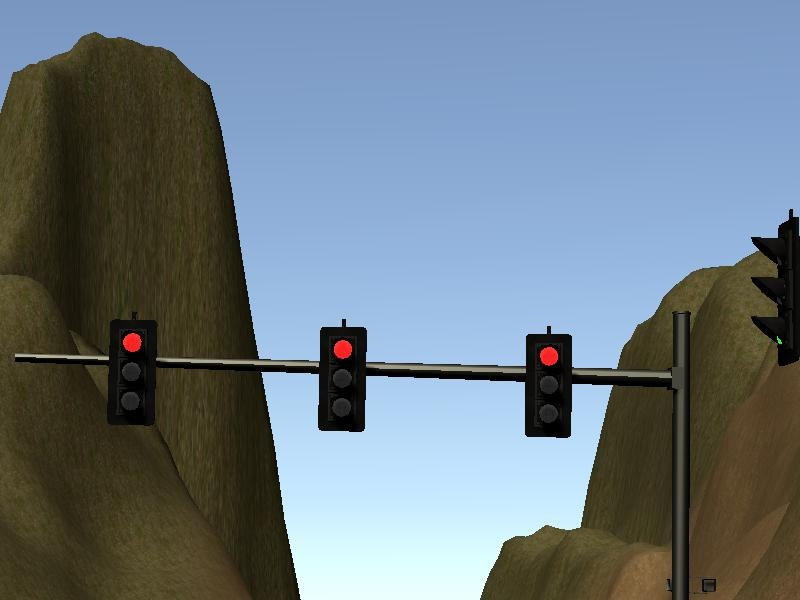red: (314, 325, 370, 433), (105, 318, 158, 426), (522, 331, 574, 439)
